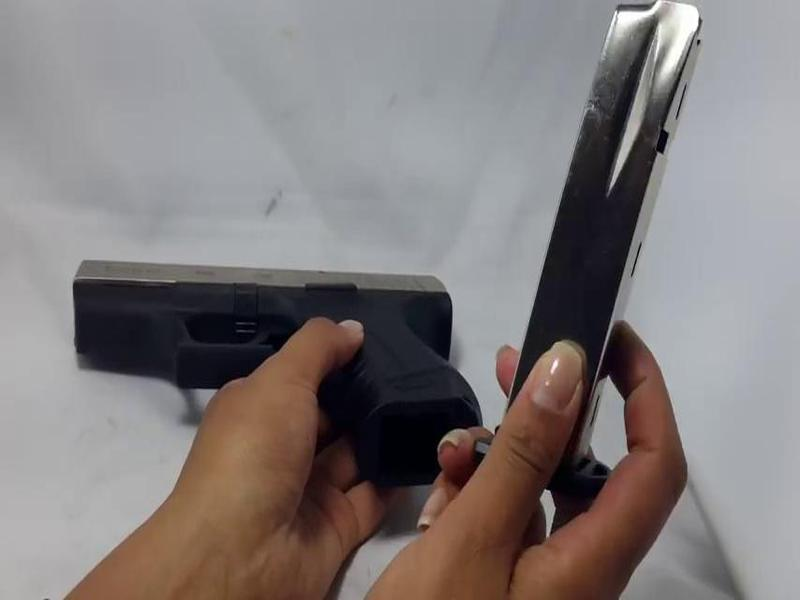Pistola: (58, 237, 480, 482)
